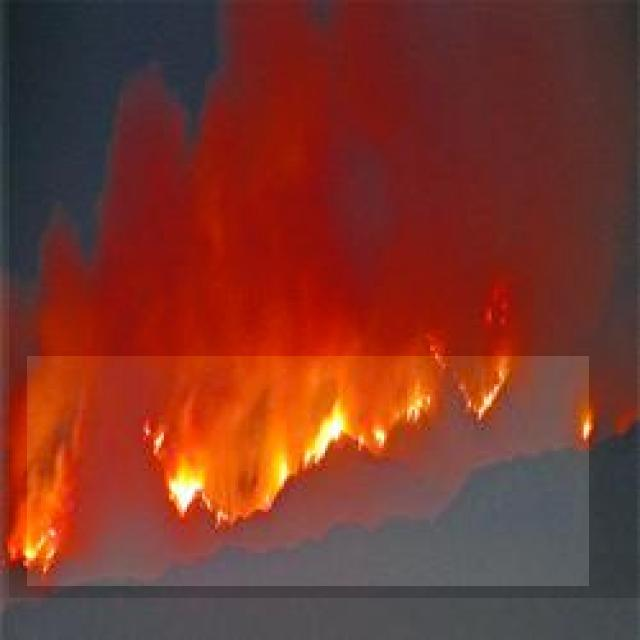Fire: (27, 356, 589, 586)
Smoke: (9, 0, 640, 598)
